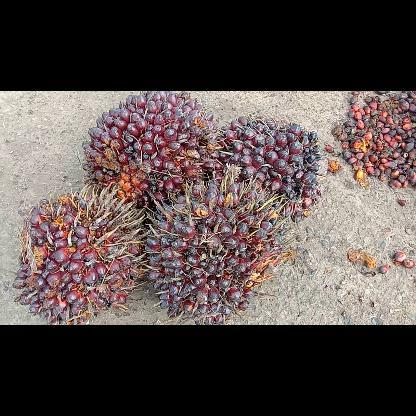Kurang masak: (144, 178, 284, 324), (12, 186, 146, 324), (211, 114, 325, 226)
TBS masak: (76, 90, 222, 212)
